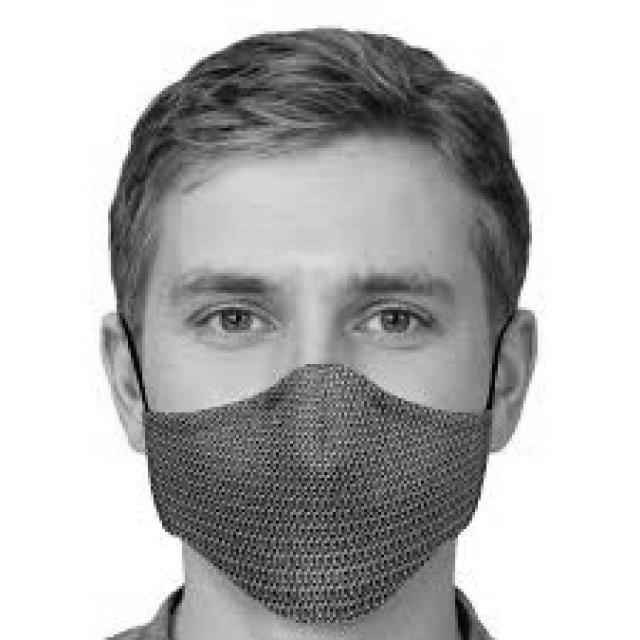fake: (124, 357, 518, 639)
real: (143, 135, 494, 640)
